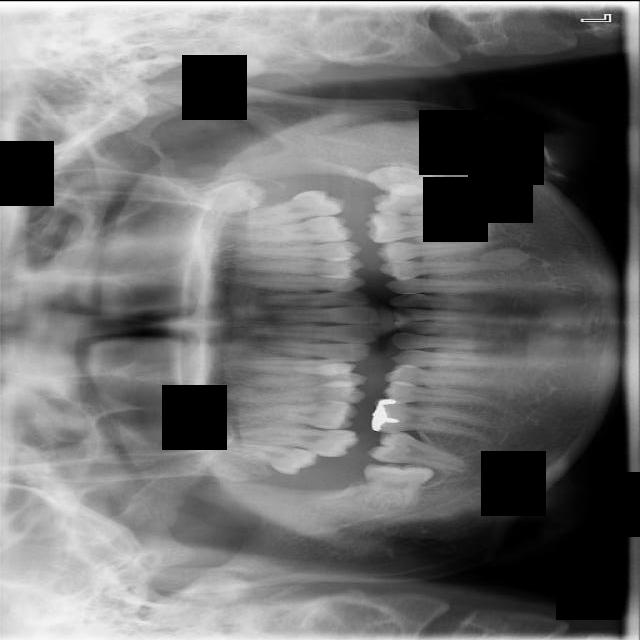3M ESPE Implant: (216, 439, 320, 478)
52: (371, 397, 418, 434)
73: (584, 26, 598, 32)
BioHorizons Implant: (228, 183, 347, 234)
BioLife Implant: (186, 176, 271, 219)
Biomet 3i Implant: (365, 156, 442, 199)
Blue Sky Bio Implant: (372, 181, 484, 216)
Caries: (239, 422, 361, 458)
Implant: (369, 426, 468, 472)
Keystone Dental Implant: (363, 461, 435, 513)
